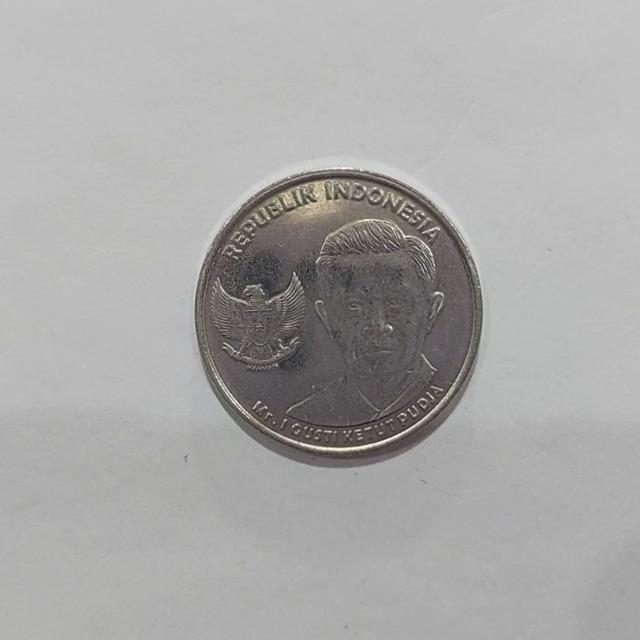Rp100: (192, 163, 484, 465)
